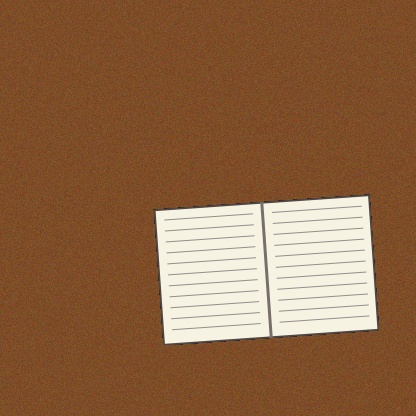book: (153, 194, 379, 345)
